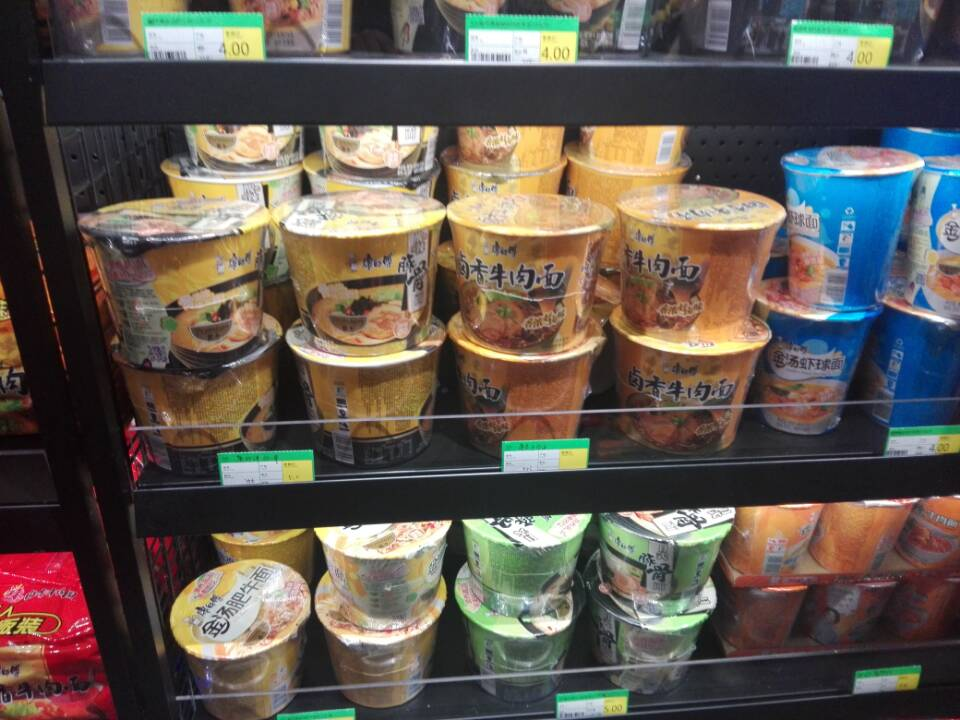luxiang: (614, 183, 787, 345), (447, 192, 615, 355), (607, 345, 766, 457), (450, 355, 606, 462)
